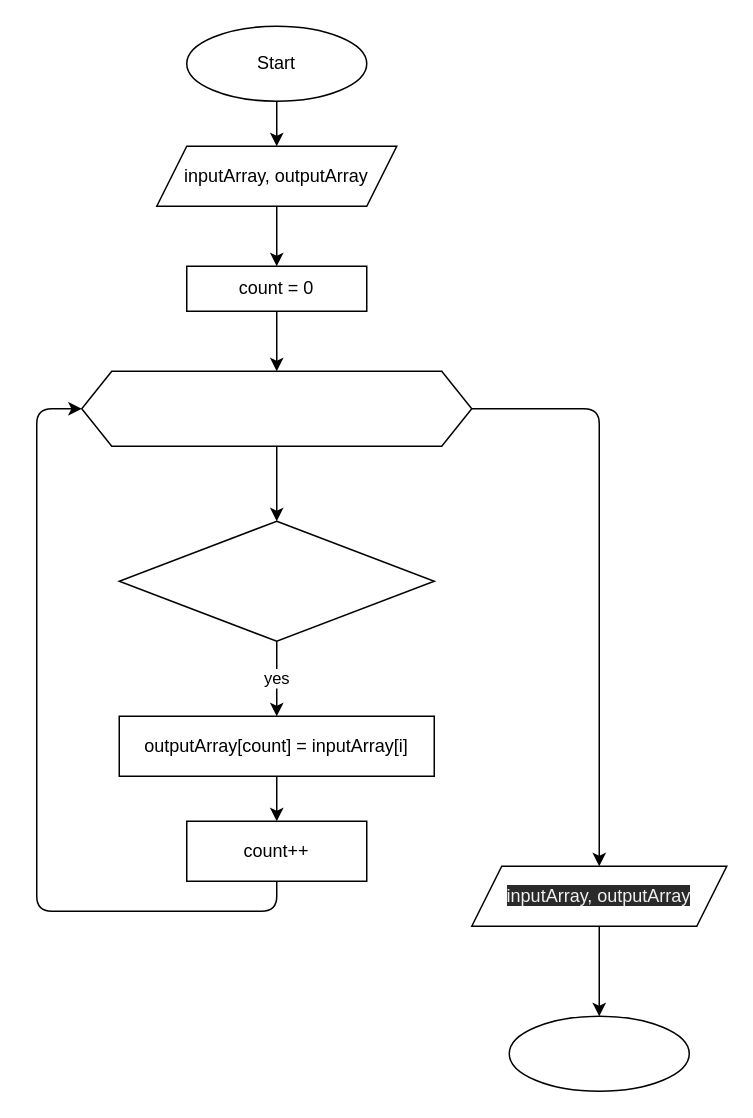
Some shapes in this 753 by 1118 pixel diagram are drawn without their labels. Each missing label, with the centre of its shape:
"End" belongs at (598,1053).
"for (int i = 0; i<inputArray.Length; i++)" belongs at (276,408).
"inputArray[i].Length <= 3" belongs at (276,580).
